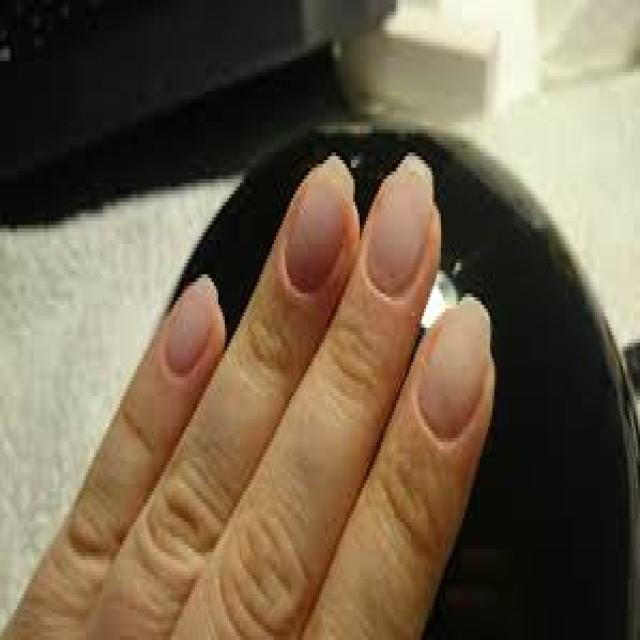Nail: (418, 298, 491, 437), (366, 154, 435, 297), (287, 155, 355, 290), (165, 277, 217, 378)
